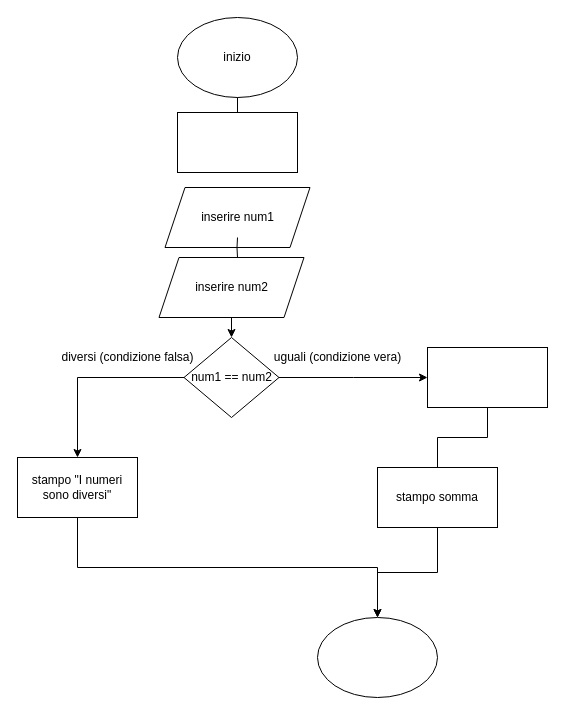
Image size: 565x715. Some labels were removed from this diagram. The shapes that lost their labels are listed below. From the top down, each one's centre as x and y in pixels, then its label:
[237,142]: dichiaro somma = 0
[487,377]: somma = num1+num2
[377,657]: Fine
